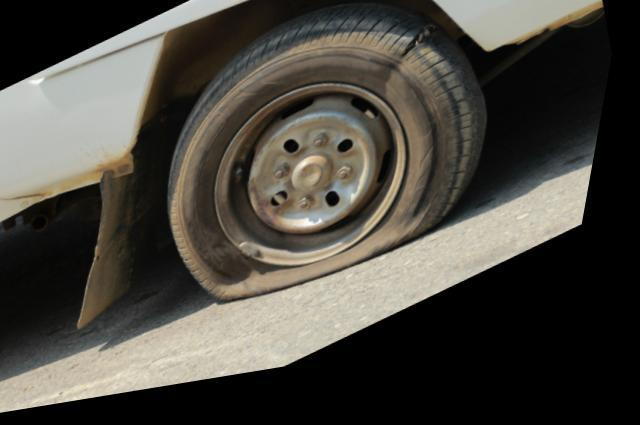tire flat: (178, 9, 493, 308)
